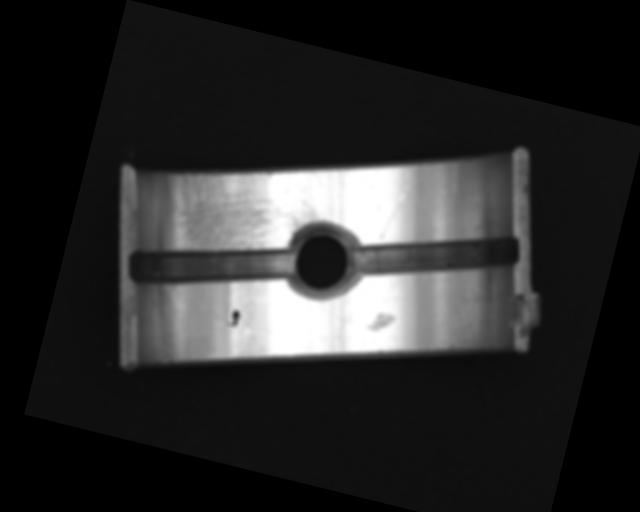blot: (225, 307, 242, 328)
bruise: (366, 307, 397, 335)
gap: (350, 202, 523, 310), (124, 212, 297, 318)
hole: (279, 217, 363, 307)
nick: (379, 183, 409, 242)
scratch: (150, 138, 334, 288)
